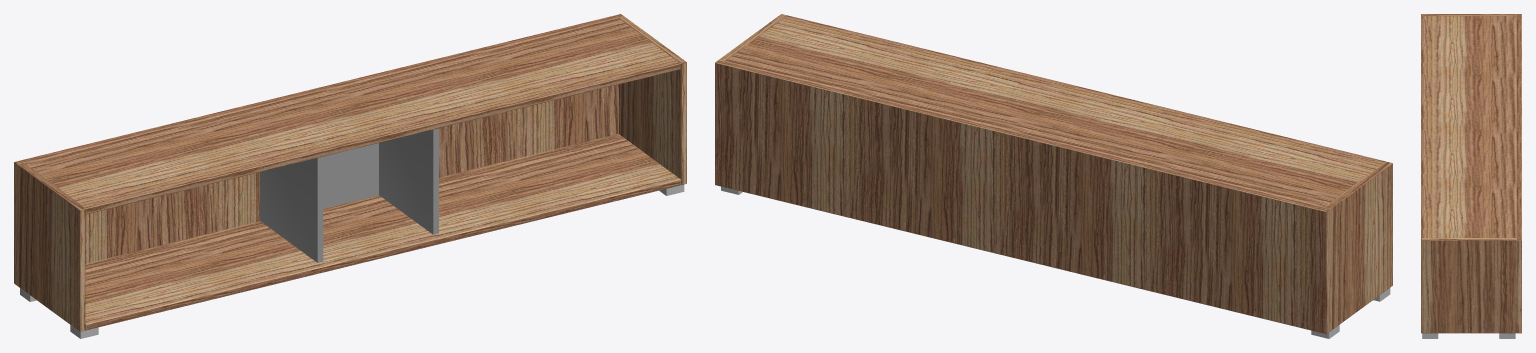
Rendered from cabinet_shelf_basic_chassis_1OH_200x38_FINAL.fbx.
3 views of the same model, side by side, from view 1: azimuth 30°, elevation 25°; view 2: azimuth 150°, elevation 25°; view 3: azimuth 270°, elevation 25° (orthographic). The views are drawn at different scales.
Parts seen in each view (by area): view 1: body_mesh, srodek_mesh, plastik_mesh; view 2: body_mesh; view 3: body_mesh, plastik_mesh.
Boxes of the visible parts, bbox=[...] form: body_mesh: bbox=[14, 14, 686, 331]; srodek_mesh: bbox=[260, 128, 438, 262]; plastik_mesh: bbox=[20, 184, 684, 338]; body_mesh: bbox=[715, 14, 1392, 334]; body_mesh: bbox=[1421, 14, 1521, 333]; plastik_mesh: bbox=[1422, 333, 1515, 338].
Bounding box in the file's own units: 200 × 40.9 × 37.7.
